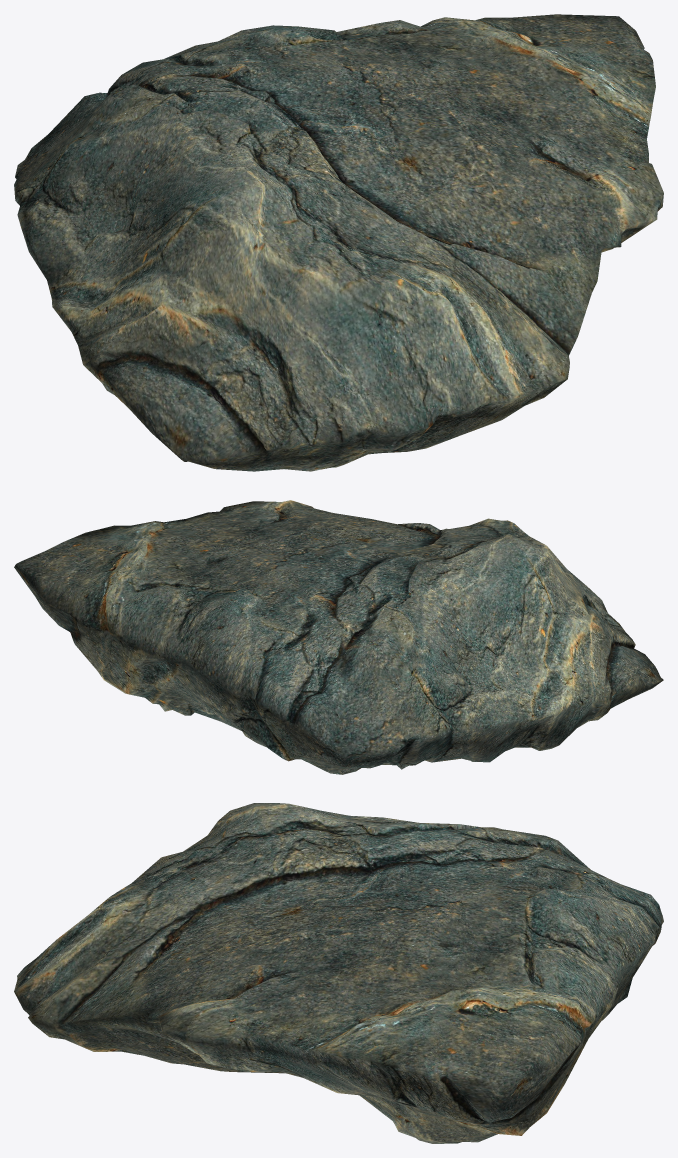
The picture shows the model from 3 angles, top to bottom: view 1: azimuth 30°, elevation 25°; view 2: azimuth 150°, elevation 25°; view 3: azimuth 270°, elevation 25°; orthographic projection. The views are drawn at different scales.
Visible parts, largest first — view 1: Stone; view 2: Stone; view 3: Stone.
Part boxes in pixels (bbox=[...]): Stone: bbox=[14, 14, 663, 471]; Stone: bbox=[14, 500, 663, 774]; Stone: bbox=[14, 803, 663, 1143].
Size of the model in its own units: 53.29 by 18.41 by 50.19.
